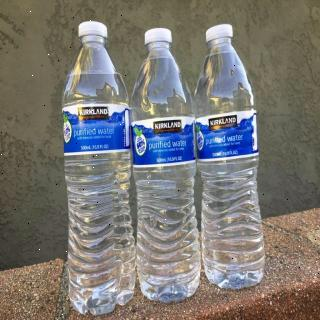Plastic-bottle: (62, 14, 139, 320), (194, 21, 270, 296), (129, 27, 203, 305)
